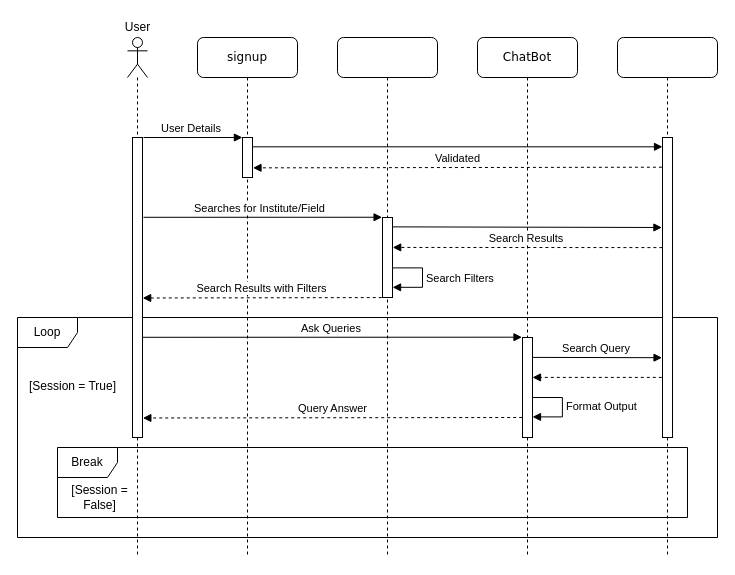
Image size: 735x575. Some labels were removed from this diagram. The box of each missing label's shape, as (x1, y1, x2, y2) in pixels:
Database: (616, 36, 718, 558)
Search: (336, 36, 438, 558)
